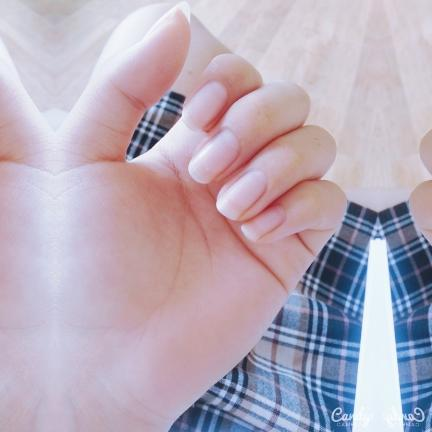Nail: (188, 131, 239, 183), (216, 170, 267, 220), (182, 81, 227, 131), (240, 205, 285, 240)
